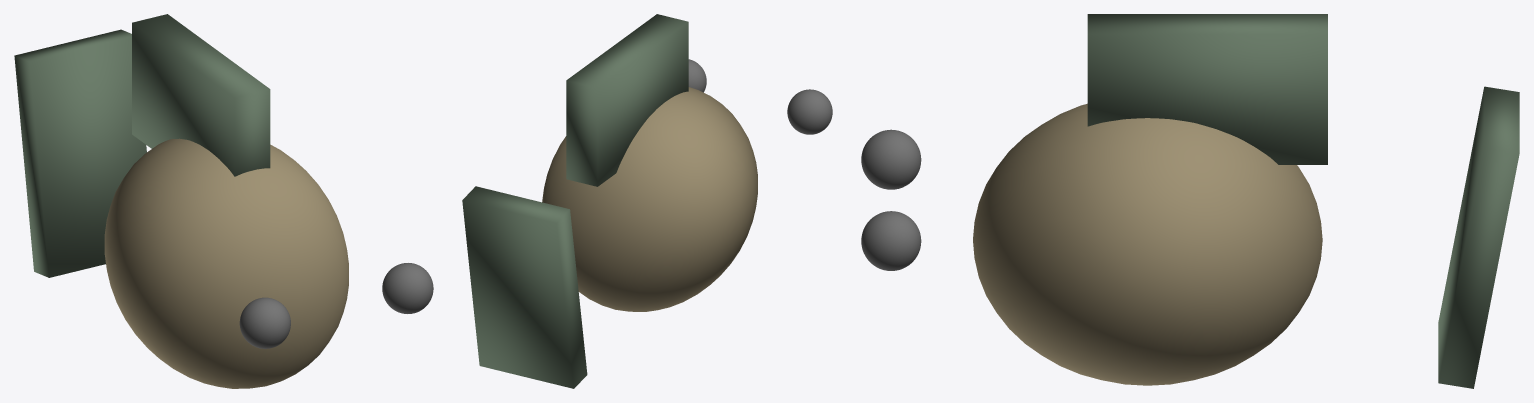
Rendered from fish_catfish.glb.
3 renders of one model, left to right at view 1: azimuth 30°, elevation 25°; view 2: azimuth 150°, elevation 25°; view 3: azimuth 270°, elevation 25°, orthographic. The views are drawn at different scales.
Visible parts, largest first — view 1: body, tail, dorsal, eye-1, eye1; view 2: body, tail, dorsal, eye-1, eye1; view 3: body, dorsal, tail, eye-1, eye1.
Part boxes in pixels (<box>): body: <box>104,138,348,388</box>; tail: <box>14,29,146,277</box>; dorsal: <box>132,14,270,176</box>; eye-1: <box>239,297,290,348</box>; eye1: <box>382,263,433,313</box>; body: <box>542,87,757,311</box>; tail: <box>462,186,587,388</box>; dorsal: <box>566,14,688,186</box>; eye-1: <box>787,89,832,134</box>; eye1: <box>688,59,706,92</box>; body: <box>973,103,1322,385</box>; dorsal: <box>1087,14,1327,164</box>; tail: <box>1438,86,1519,388</box>; eye-1: <box>861,129,921,189</box>; eye1: <box>861,211,921,270</box>.
Bounding box in the file's own units: 0.2184 × 0.3221 × 0.5481.
